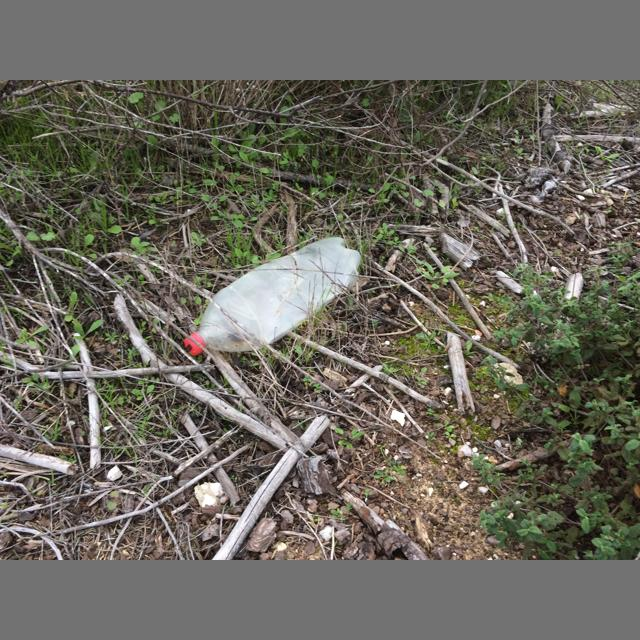litter: (185, 237, 363, 356), (184, 335, 203, 356)
